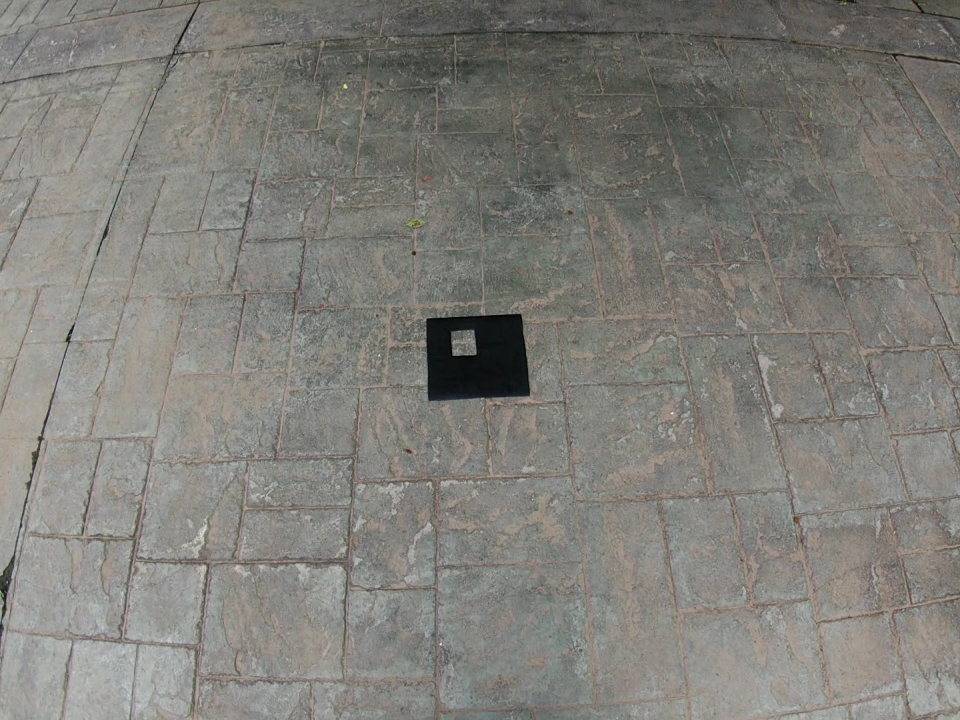qrcode: (425, 313, 530, 401)
